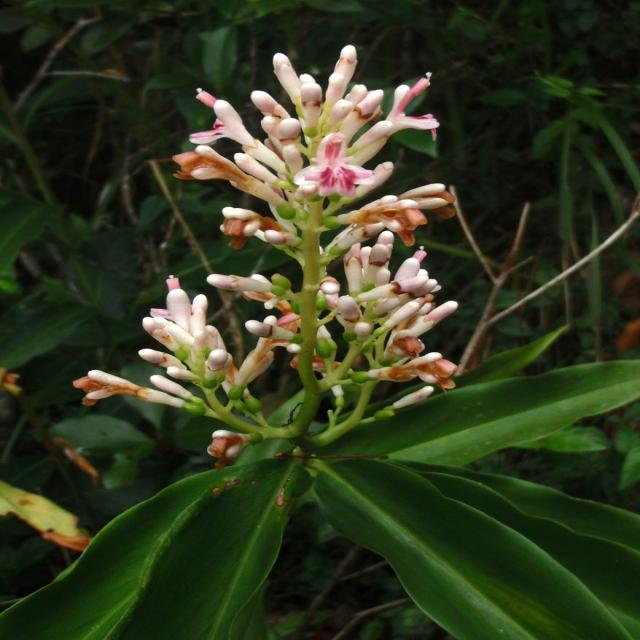Aquatic-Ginger: (70, 42, 458, 460)
